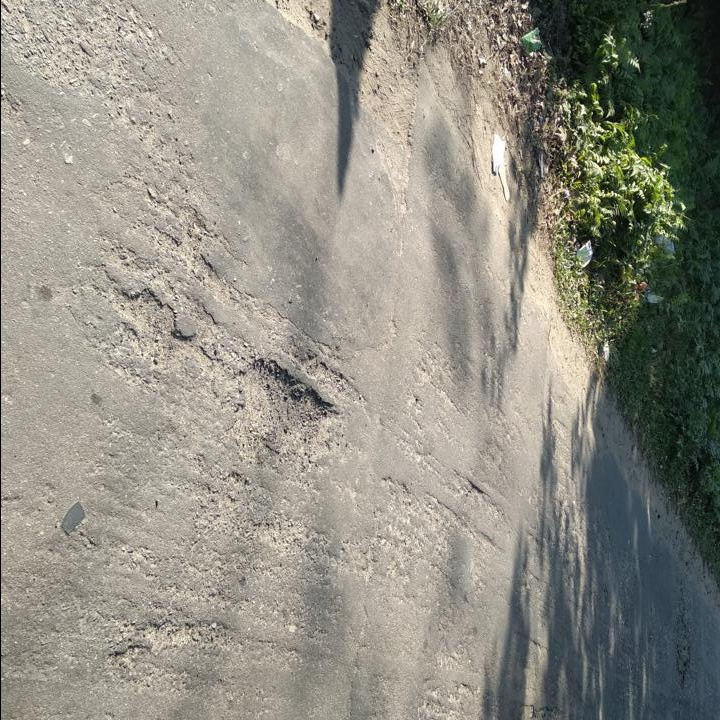pothole: (238, 353, 342, 449), (115, 282, 191, 368)
